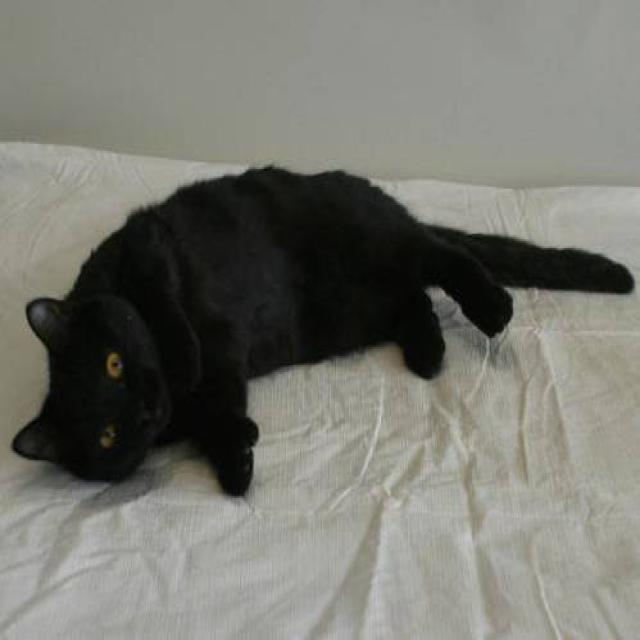cat: (10, 162, 635, 498)
